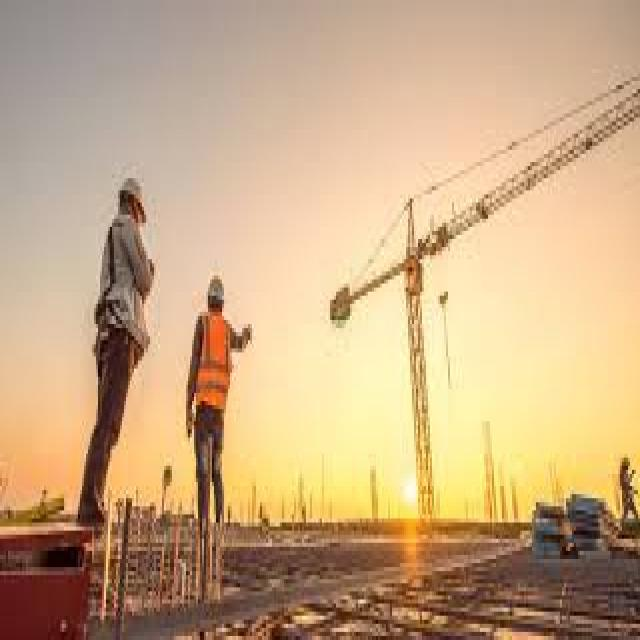Reflective-Jacket: (188, 308, 238, 429)
Safety-Helmet: (112, 162, 152, 231), (202, 263, 230, 312)
